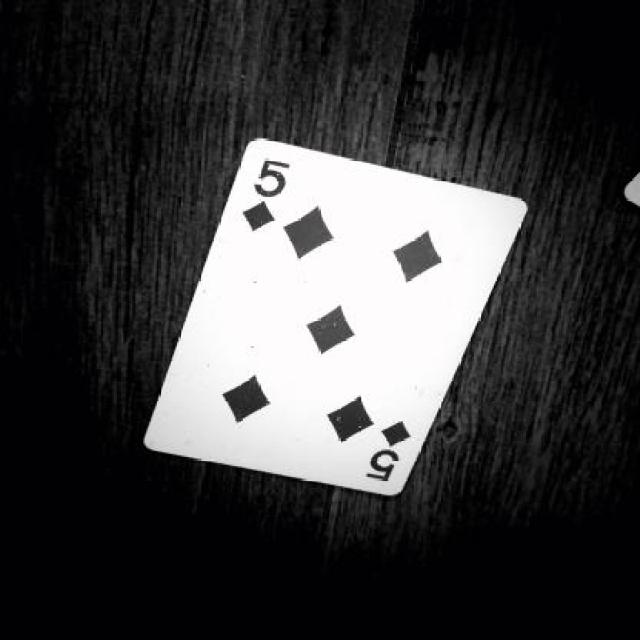5D: (233, 152, 298, 237), (351, 419, 418, 498)
